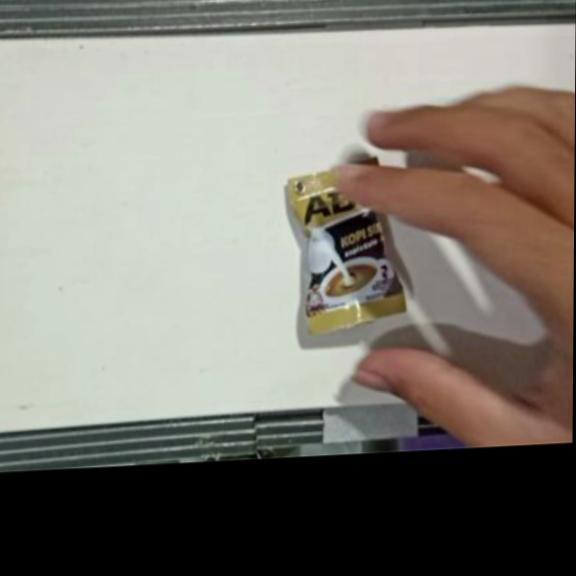Plastik: (285, 155, 407, 340)
